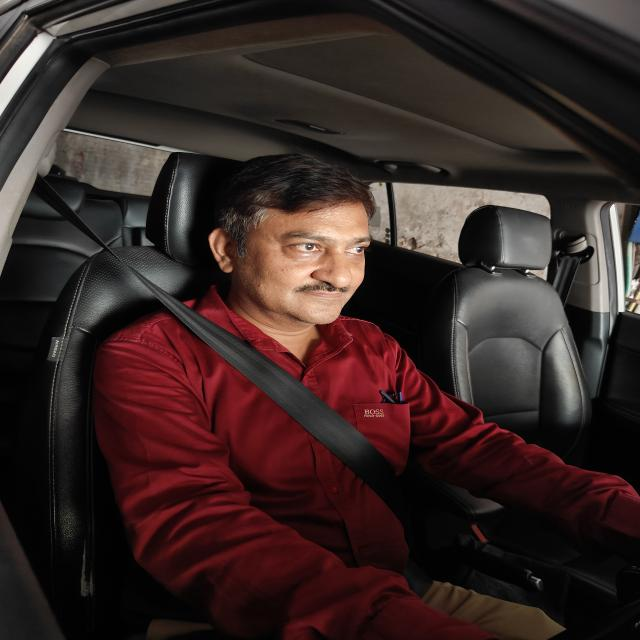seatbelt: (43, 179, 494, 606)
